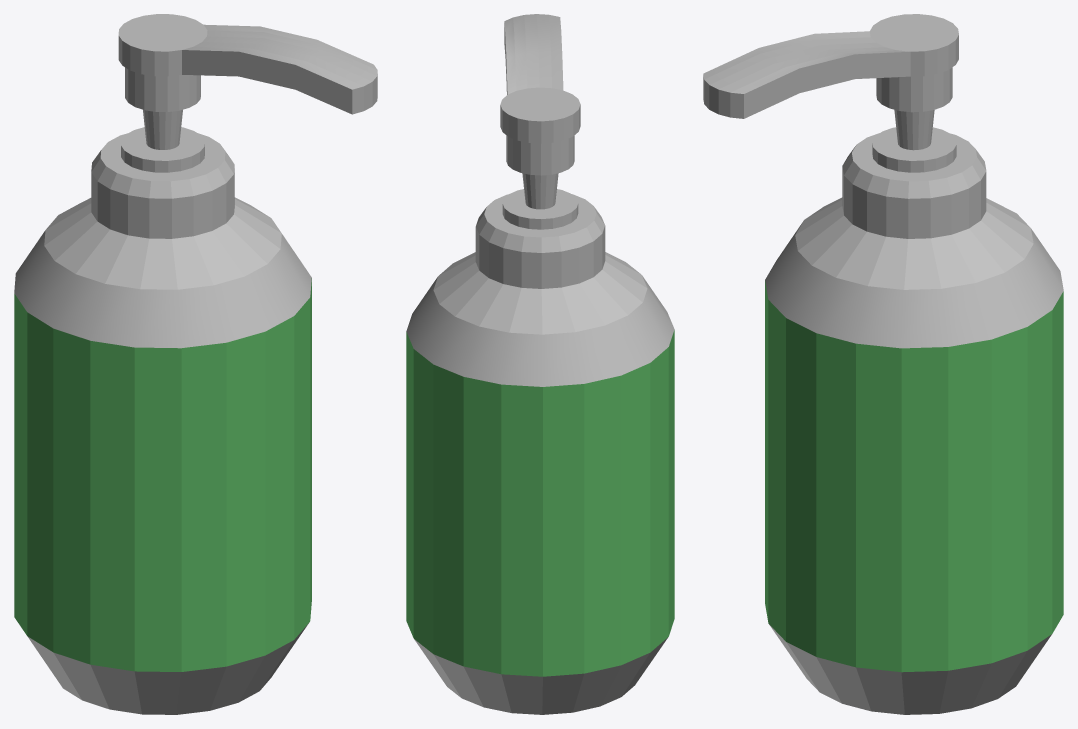
The model's file is Soap_Green.fbx.
The picture shows the model from 3 angles, left to right: view 1: azimuth 30°, elevation 25°; view 2: azimuth 150°, elevation 25°; view 3: azimuth 270°, elevation 25°; orthographic projection. The views are drawn at different scales.
Parts seen in each view (by area): view 1: pCylinder80; view 2: pCylinder80; view 3: pCylinder80.
Part boxes in pixels (x1,y1,x2,y2): pCylinder80: [14, 14, 377, 714]; pCylinder80: [406, 14, 674, 714]; pCylinder80: [703, 14, 1063, 714].
Size of the model in its own units: 0.1178 by 0.2817 by 0.1422.
